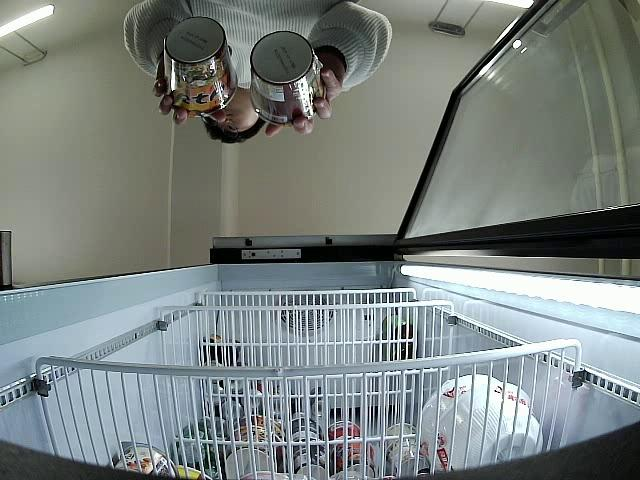00_hand: (263, 68, 343, 138), (150, 77, 227, 126)
06_nuguri_S: (164, 17, 239, 116), (250, 29, 326, 125)
